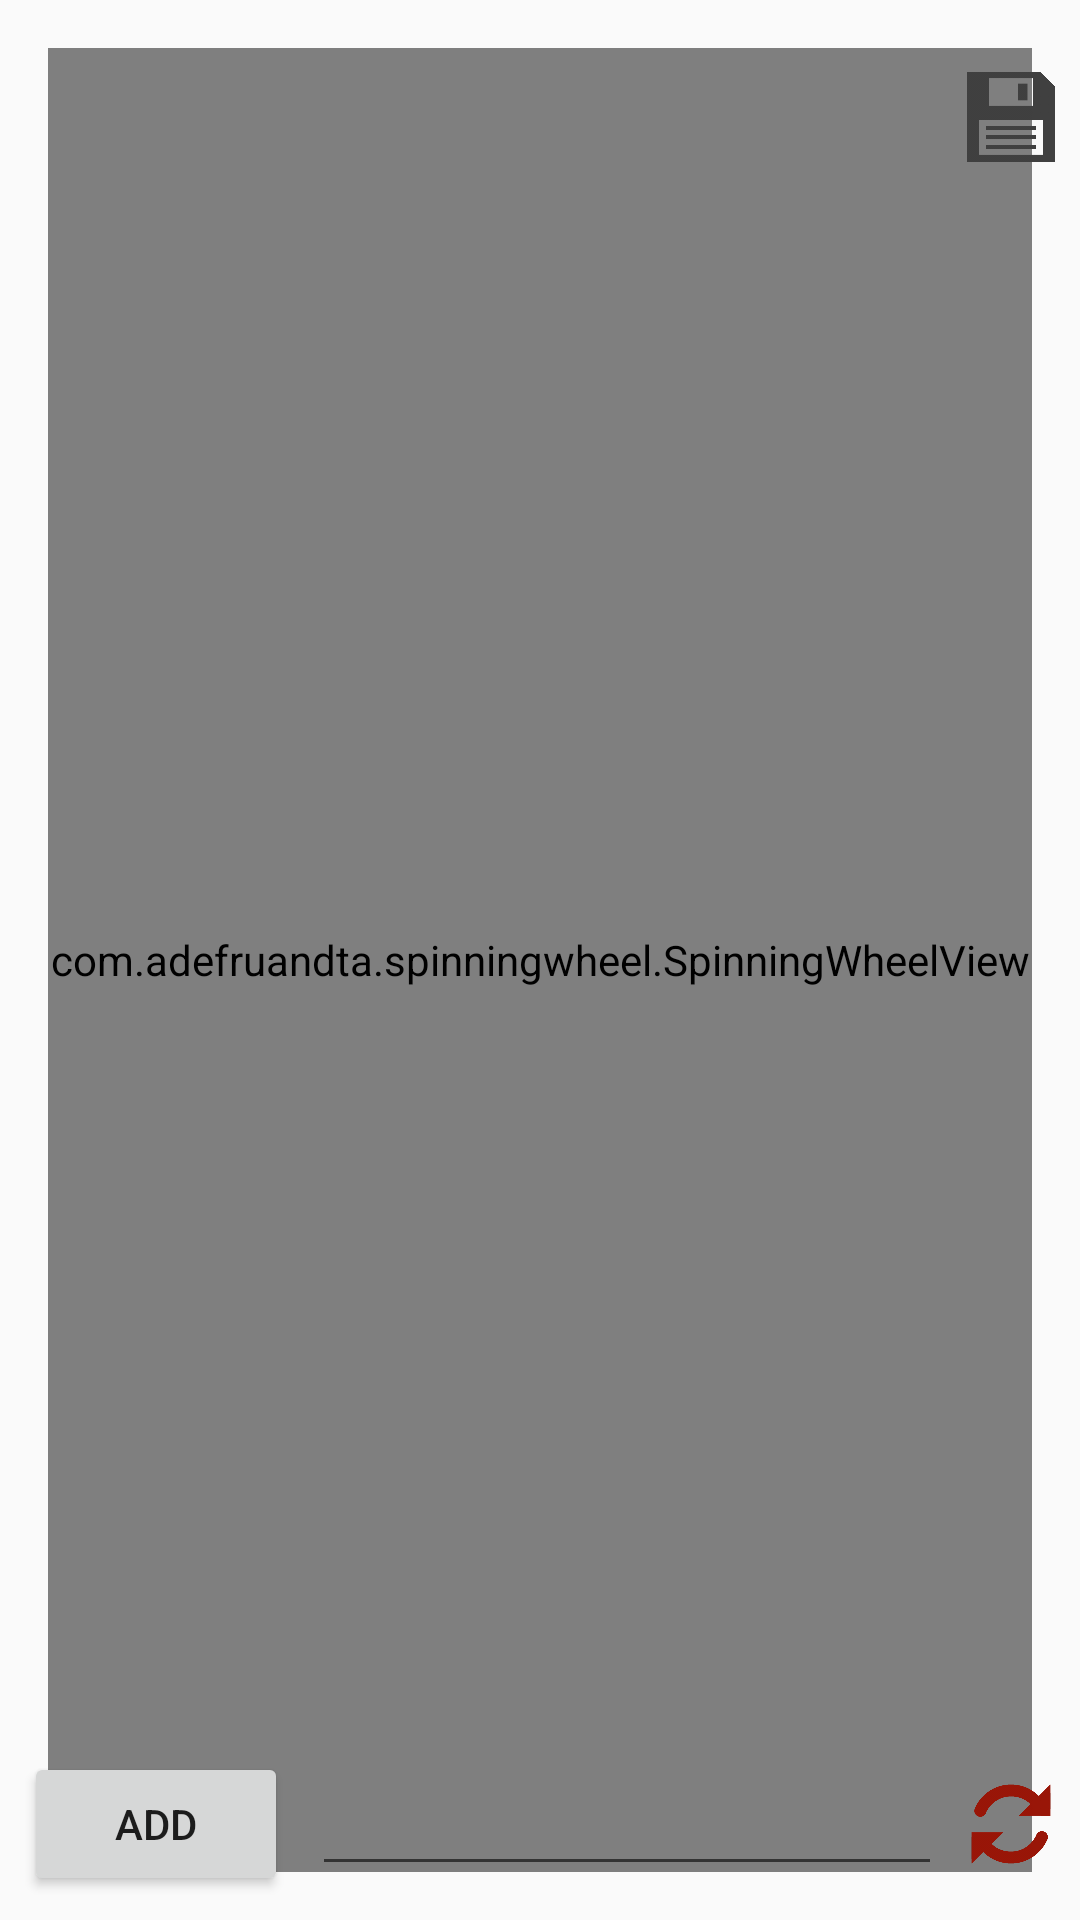

Icons on this 1080x1920 Android screen, each with the point to tap as (x,y):
refresh: (1011,1824)
